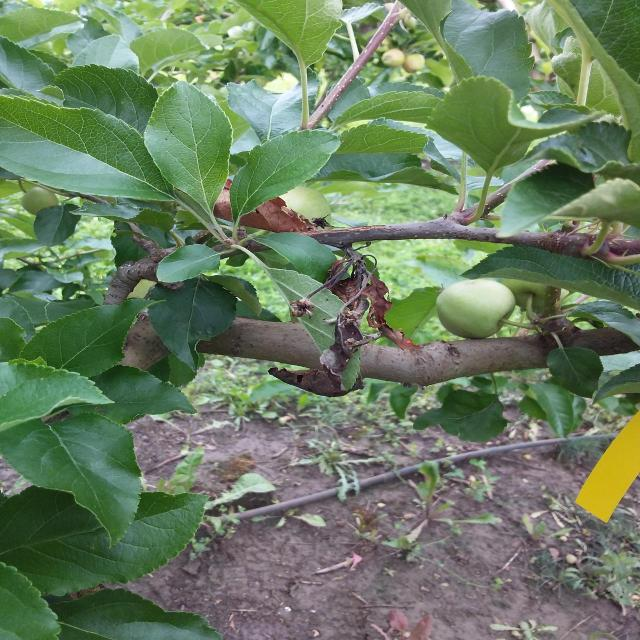-FireBlight-: (210, 177, 419, 398)
